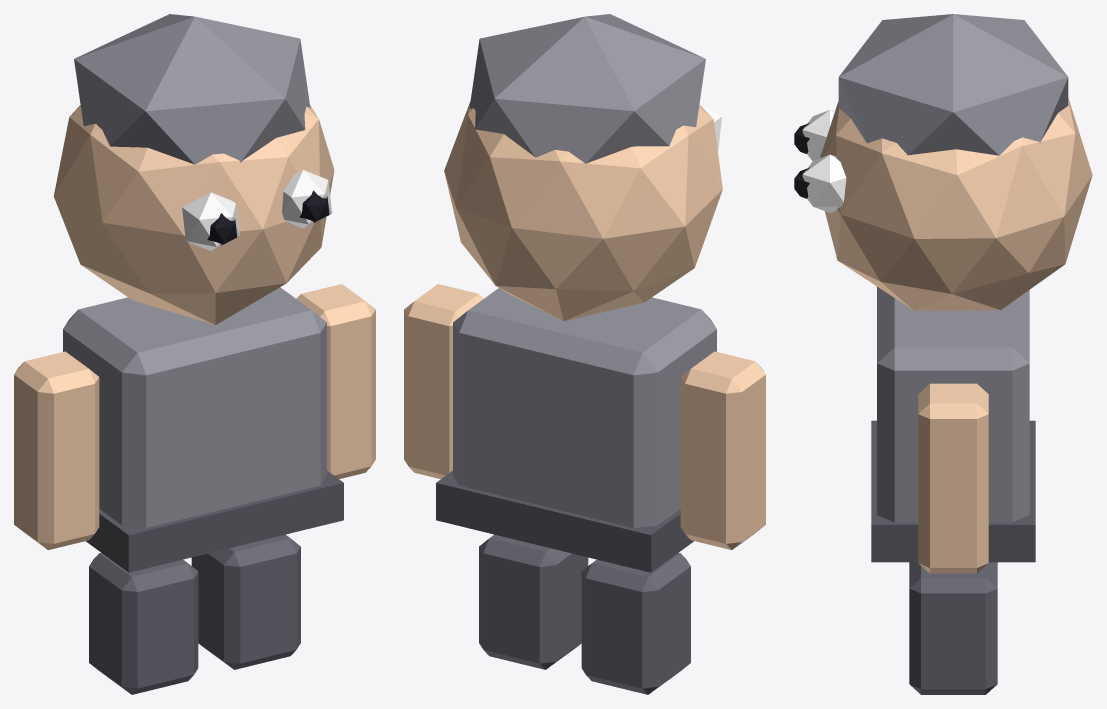
Rendered from ArmadaRaider.fbx.
3 renders of one model, left to right at view 1: azimuth 30°, elevation 25°; view 2: azimuth 150°, elevation 25°; view 3: azimuth 270°, elevation 25°, orthographic.
Visible parts, largest first — view 1: ArmadaRaider; view 2: ArmadaRaider; view 3: ArmadaRaider.
Boxes of the visible parts, bbox=[...] form: ArmadaRaider: bbox=[14, 14, 375, 694]; ArmadaRaider: bbox=[404, 14, 765, 694]; ArmadaRaider: bbox=[794, 14, 1092, 694].
Bounding box in the file's own units: 3.63 × 6.64 × 2.79.
Materials: 1 (1 with a texture image).
